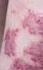plaque psoriasis: (0, 41, 43, 70), (21, 9, 43, 40), (3, 28, 19, 58)
